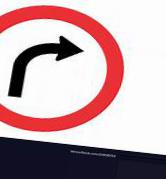right: (1, 4, 125, 131)
